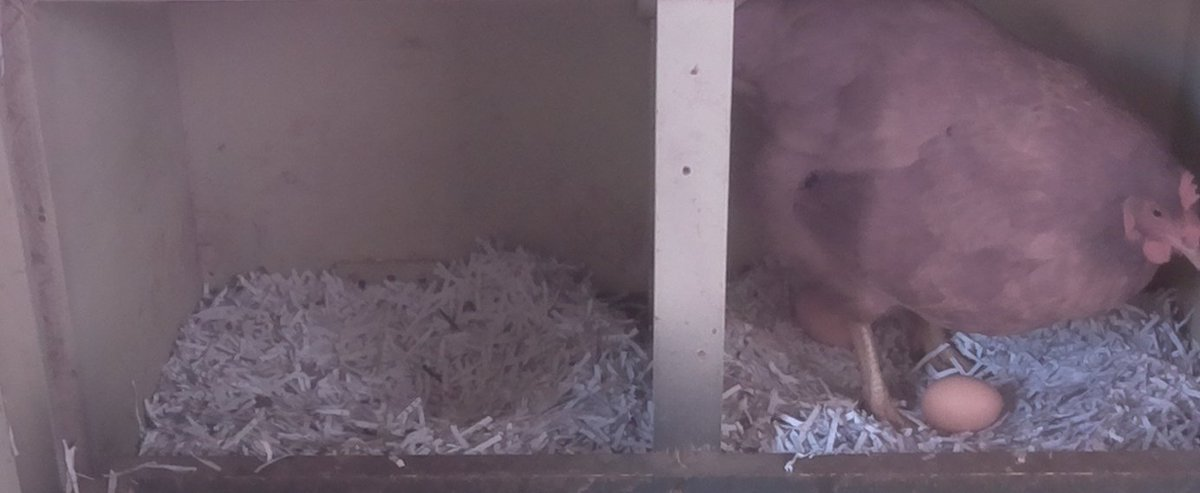egg: (918, 374, 1005, 437), (789, 287, 865, 352)
hen: (734, 4, 1200, 337)
